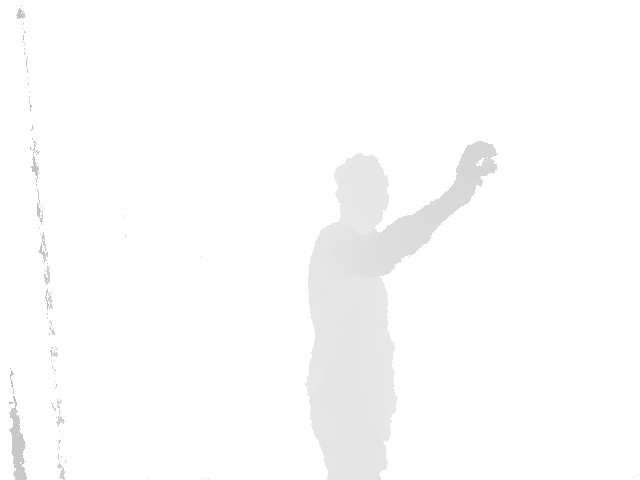hand: (454, 141, 498, 204)
head: (333, 153, 390, 226)
person: (305, 141, 499, 480)
